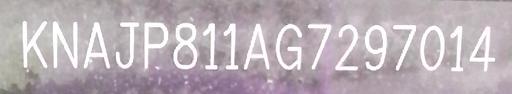letter: (272, 20, 306, 72), (20, 18, 52, 70), (48, 18, 80, 70), (82, 20, 114, 72), (242, 20, 272, 72), (170, 20, 200, 70), (332, 22, 362, 72), (468, 23, 498, 71), (390, 21, 418, 71), (419, 23, 447, 73), (141, 21, 169, 70), (114, 17, 140, 69), (306, 20, 332, 70), (362, 22, 388, 70), (200, 21, 220, 71), (220, 21, 240, 71), (448, 22, 466, 72)
